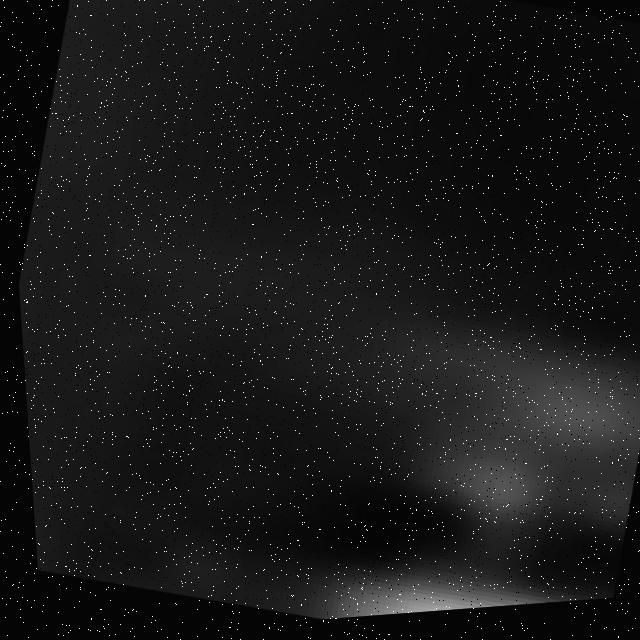person: (194, 496, 609, 631)
